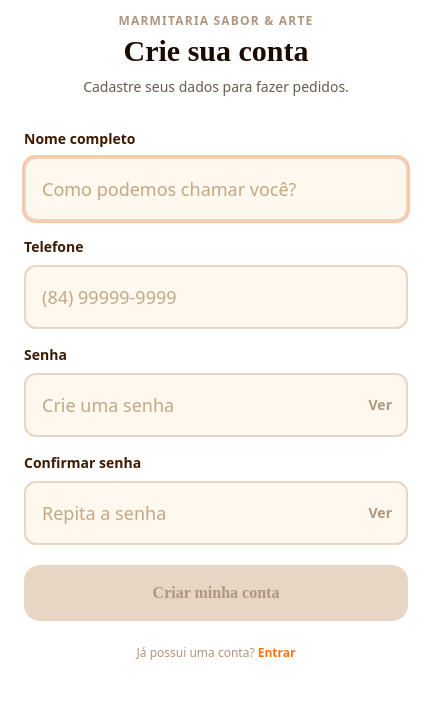
ClientRegisterPage › mostra mensagem de dados inválidos em erro 422
This screenshot has width=433, height=701.
In the field labelled "Nome completo": (216, 189) [24,157,408,221], type "Maria Silva"
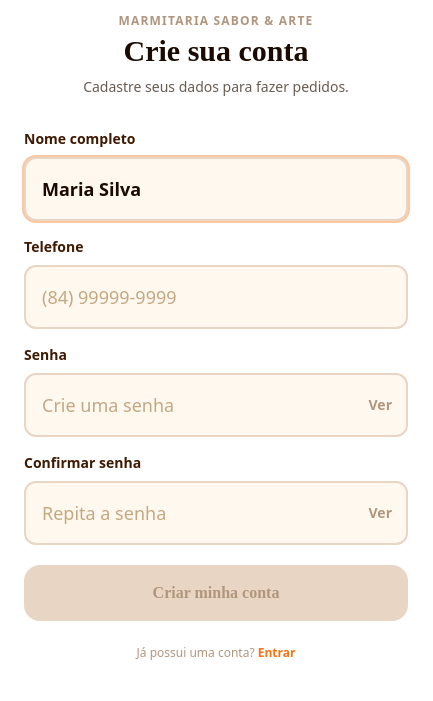
In the field labelled "Telefone": (216, 297) [24,265,408,329], type "84999999999"
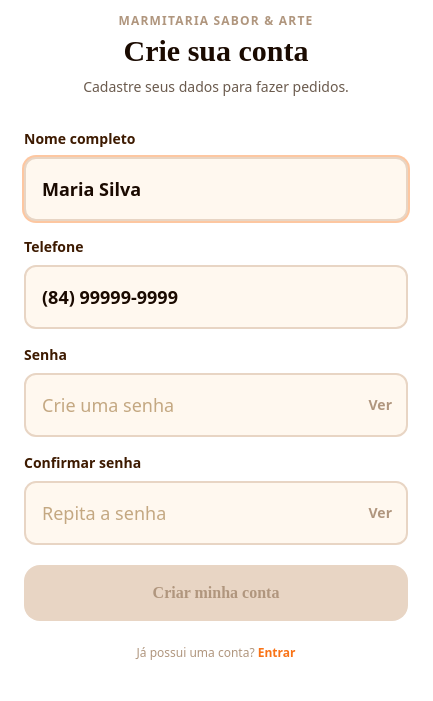
In the password field labelled "Senha": (216, 405) [24,373,408,437], type "12345678"
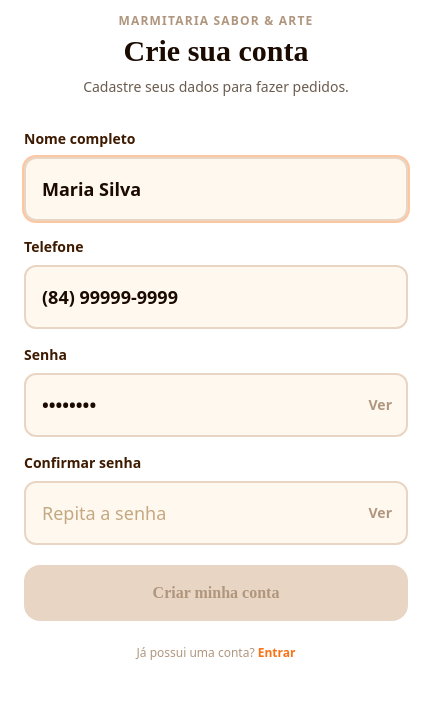
In the password field labelled "Confirmar senha": (216, 513) [24,481,408,545], type "12345678"
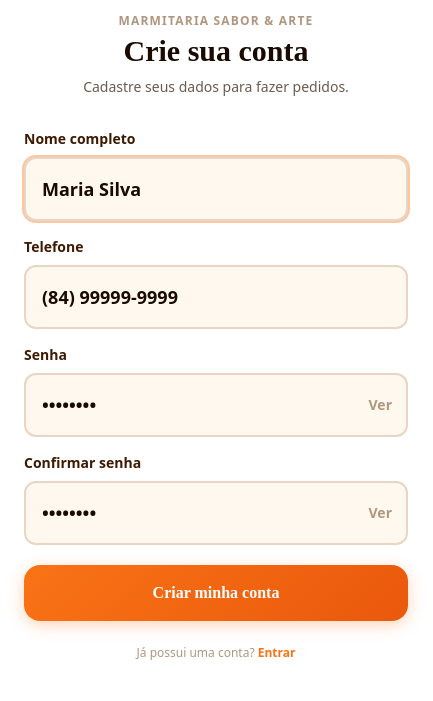
expect the button "Criar minha conta" is enabled: met
Click the button "Criar minha conta": (216, 593) [24,565,408,621]
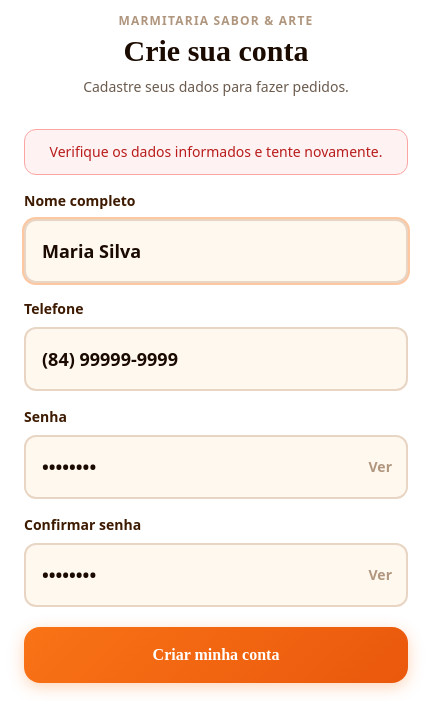
expect the text "Verifique os dados informados e tente novamente." is shown: met, box [24,129,408,175]
